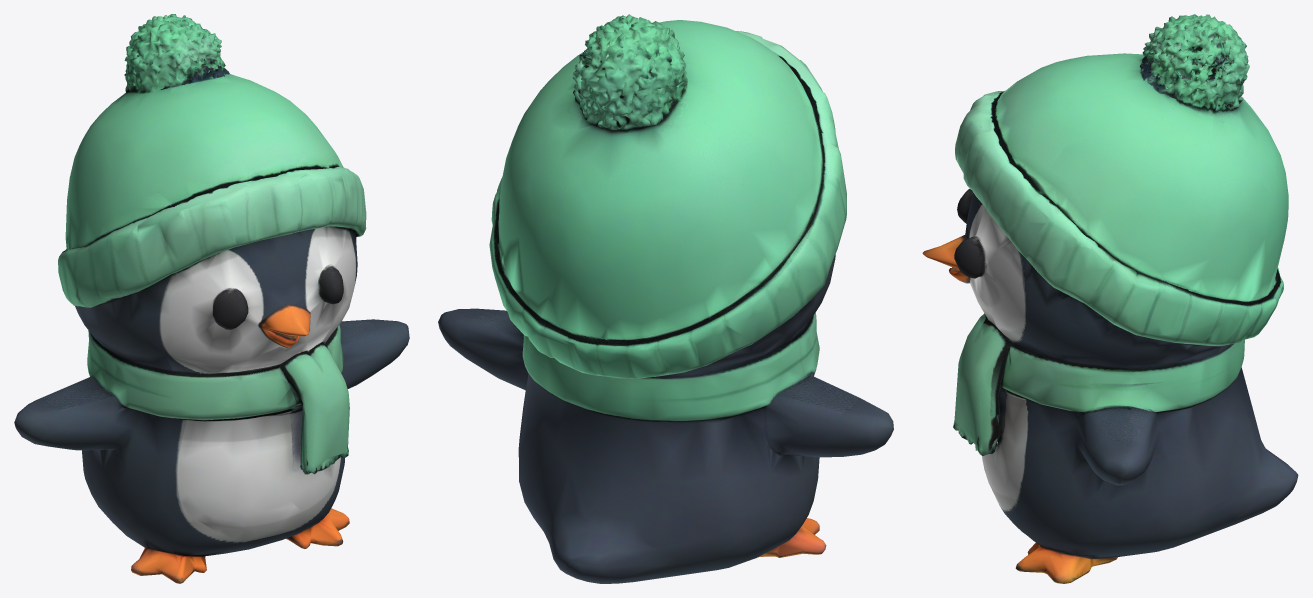
Rendered from hero3d-peng-anim.glb.
3 renders of one model, left to right at view 1: azimuth 30°, elevation 25°; view 2: azimuth 150°, elevation 25°; view 3: azimuth 270°, elevation 25°, orthographic. The views are drawn at different scales.
Bounding box in the file's own units: 1.7 × 2 × 1.34.
1 material, 1 textured.
